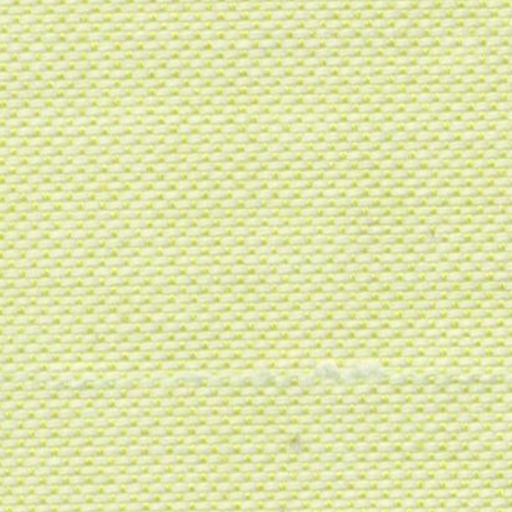TuoSha: (76, 330, 492, 410)
